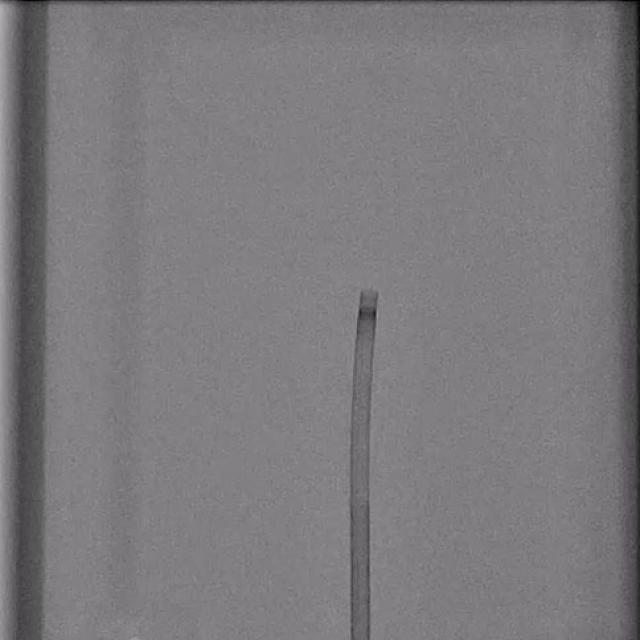bend: (351, 488, 369, 502)
entry: (351, 634, 370, 640)
marker: (357, 306, 378, 322)
tip: (362, 288, 378, 296)
